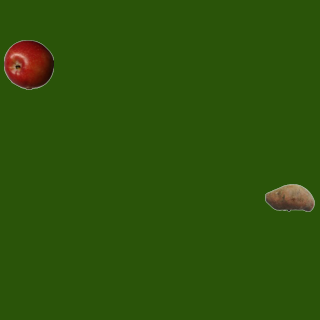Apple Braeburn: (3, 39, 53, 89)
Potato Sweet: (264, 172, 314, 222)
